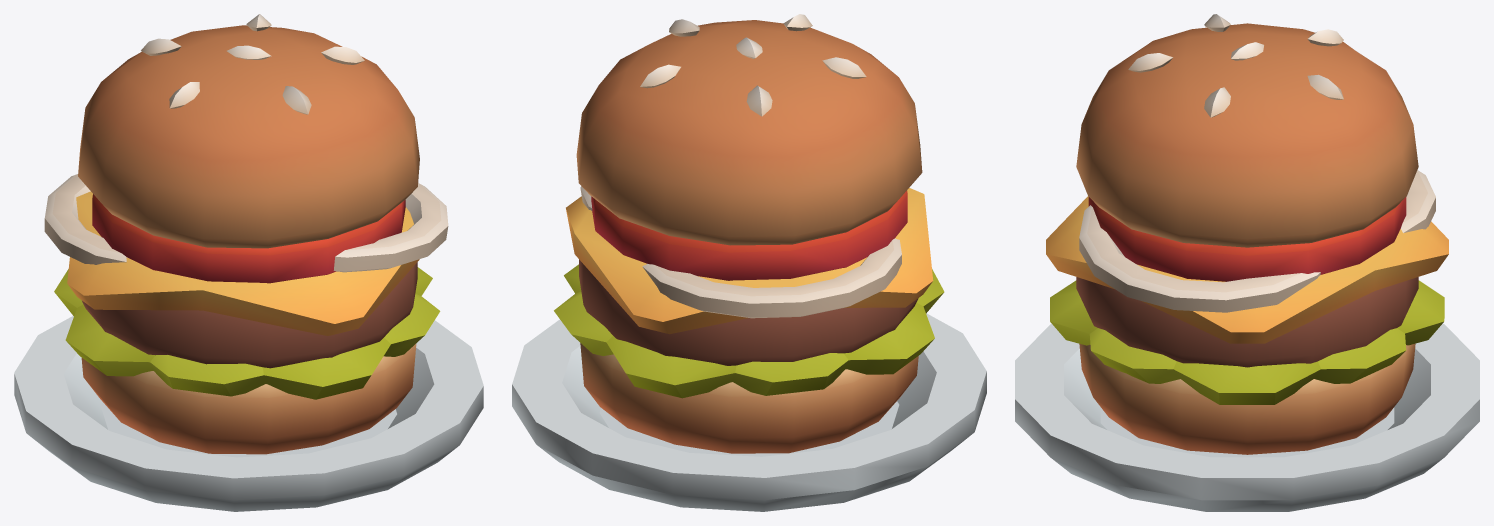
Rendered from re-food_burger.glb.
3 views of the same model, side by side, from view 1: azimuth 30°, elevation 25°; view 2: azimuth 150°, elevation 25°; view 3: azimuth 270°, elevation 25° (orthographic).
Visible parts, largest first — view 1: food_burger; view 2: food_burger; view 3: food_burger.
Boxes of the visible parts, x1=… form: food_burger: x1=14, y1=14, x2=483, y2=511; food_burger: x1=512, y1=14, x2=986, y2=511; food_burger: x1=1015, y1=14, x2=1479, y2=511.
Bounding box in the file's own units: 0.95 × 0.8572 × 0.95.
1 material, 1 textured.
